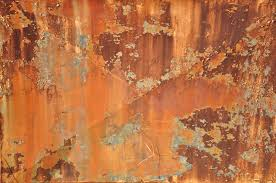rust: (1, 1, 276, 182)
